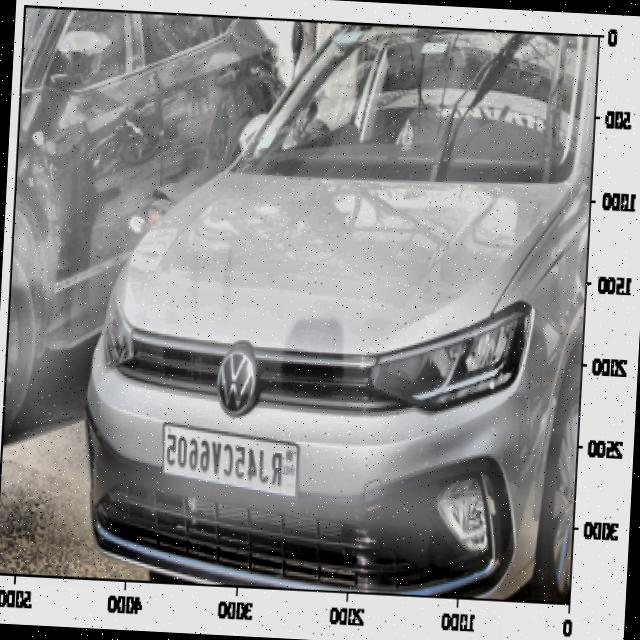license_plate: (160, 424, 290, 493)
